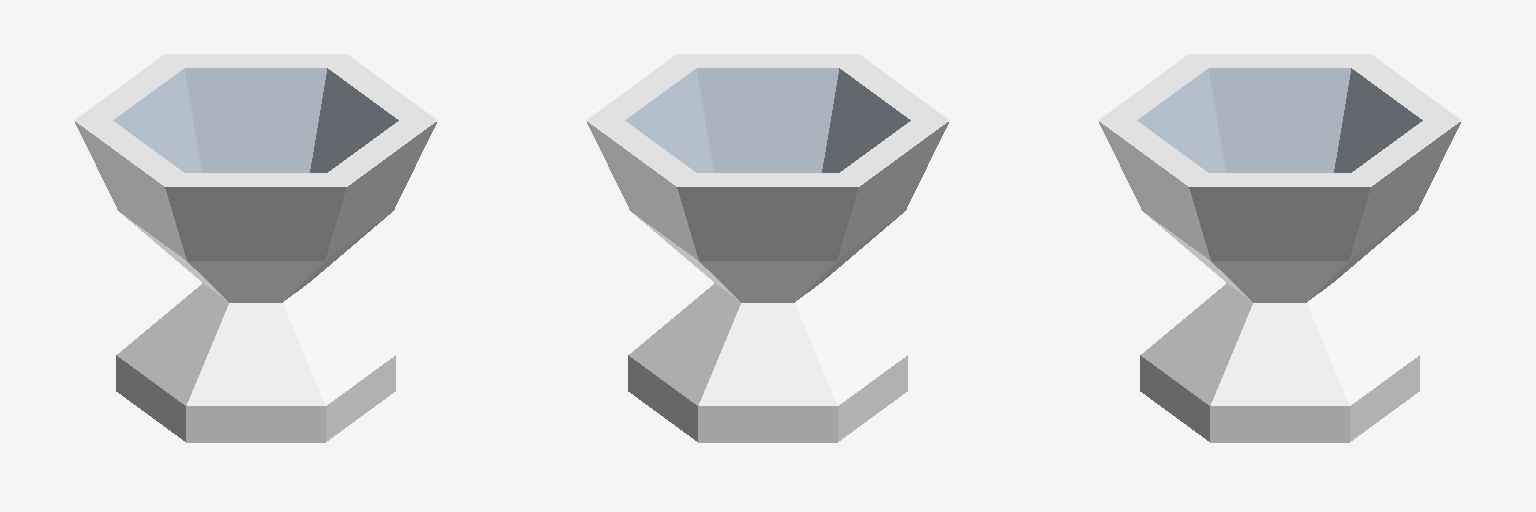
Rendered from eggCup.obj.
The picture shows the model from 3 angles: view 1: azimuth 30°, elevation 25°; view 2: azimuth 150°, elevation 25°; view 3: azimuth 270°, elevation 25°; orthographic projection.
Parts seen in each view (by area): view 1: eggCup; view 2: eggCup; view 3: eggCup.
Boxes of the visible parts, x1=… form: eggCup: x1=74, y1=54, x2=437, y2=442; eggCup: x1=586, y1=54, x2=949, y2=442; eggCup: x1=1098, y1=54, x2=1461, y2=442.
Size of the model in its own units: 0.1581 by 0.15 by 0.1826.